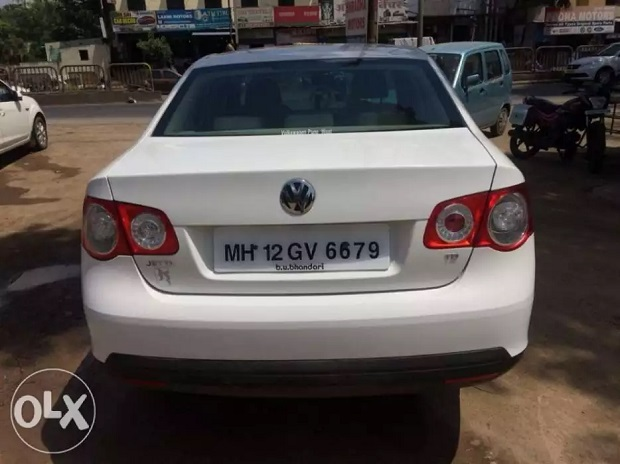licenseplate: (211, 224, 397, 274)
